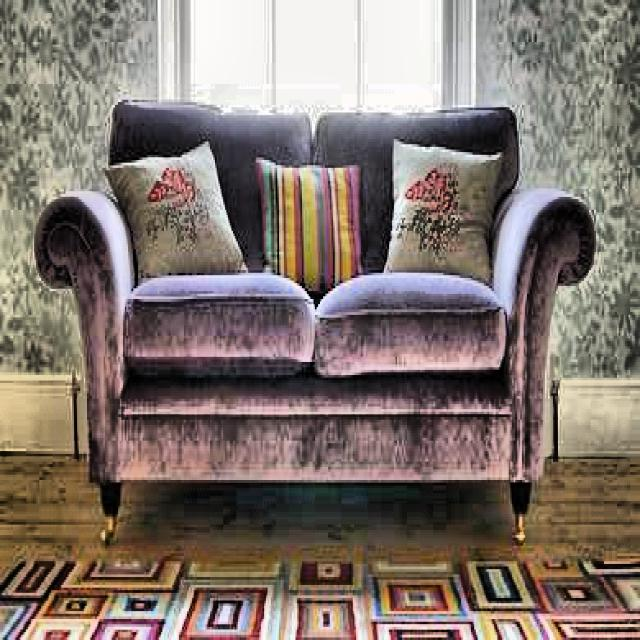sofa: (34, 95, 596, 552)
